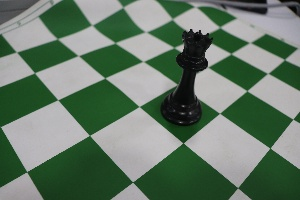black_queen: (158, 16, 211, 136)
